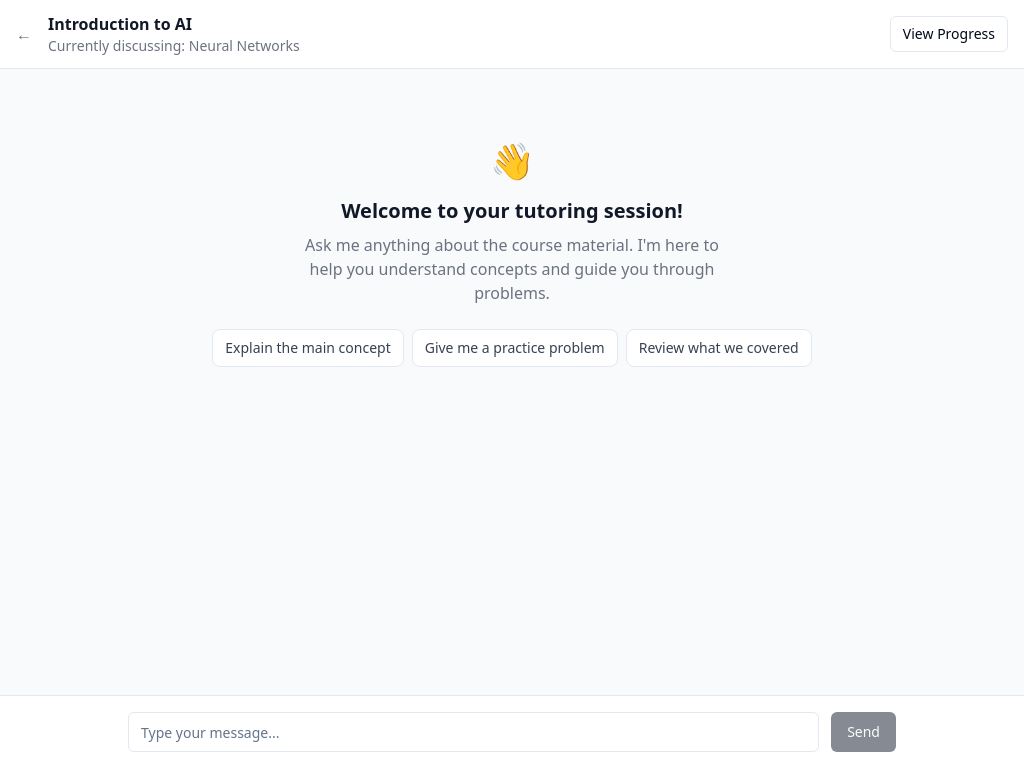
Scenario: TutorSession › welcome state › should populate input when quick prompt clicked
What coordinates should you click on to do the following:
click the button "Explain the main concept"
I would click on:
 (308, 348)
Its box is [212,329,404,367].
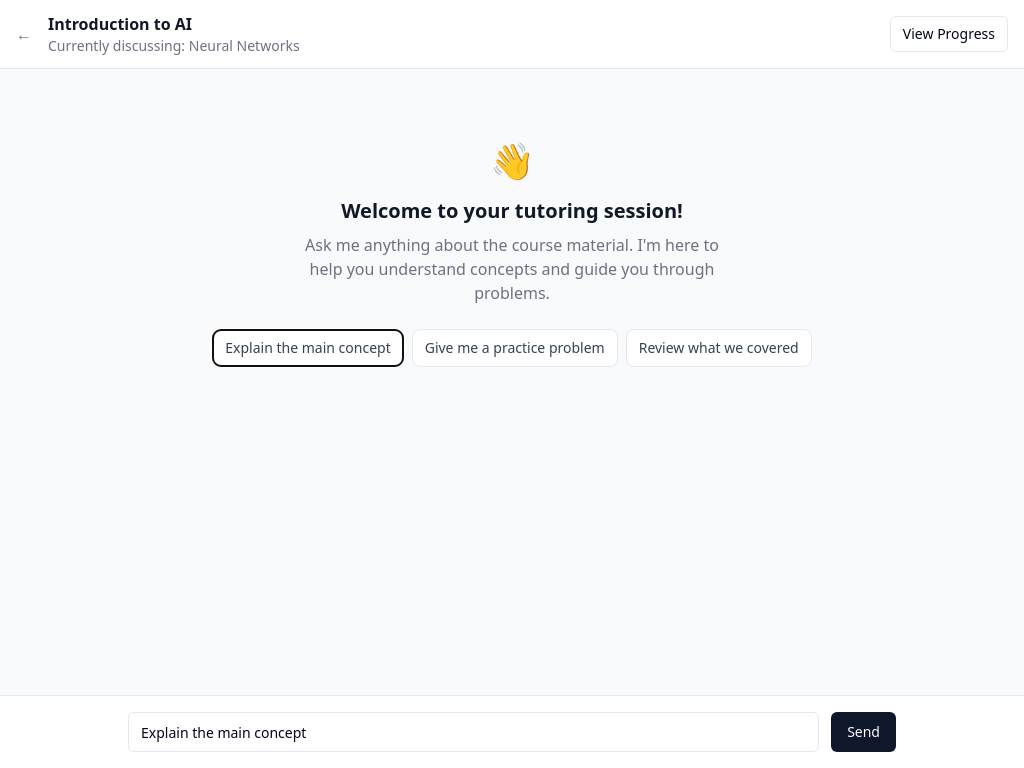
Now the field with placeholder "Type your message..." holds "Explain the main concept", box [128,712,819,752]
